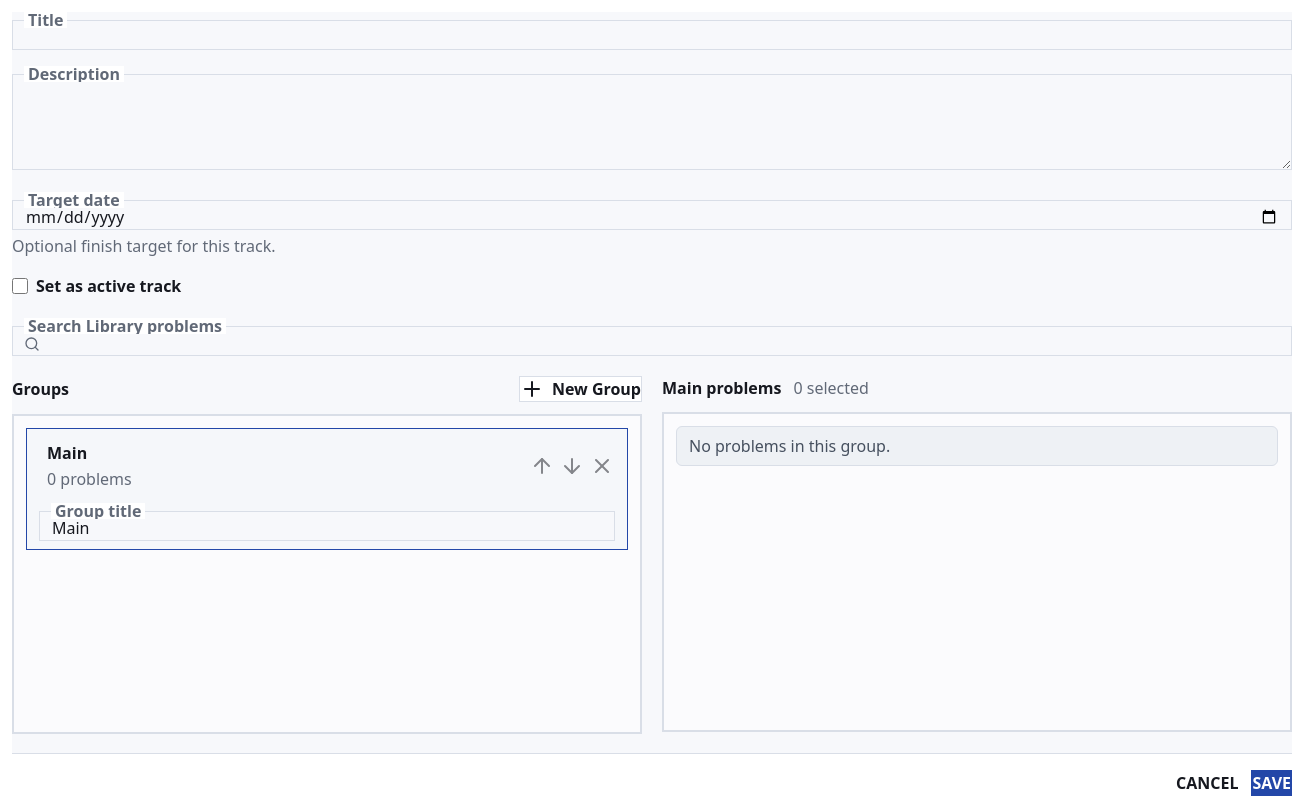
Test: TrackForm › does not offer a problem already selected in another group
Type "Interview Track" into the field labelled "Title". click: coordinates (652, 35)
box: [12,20,1292,50]
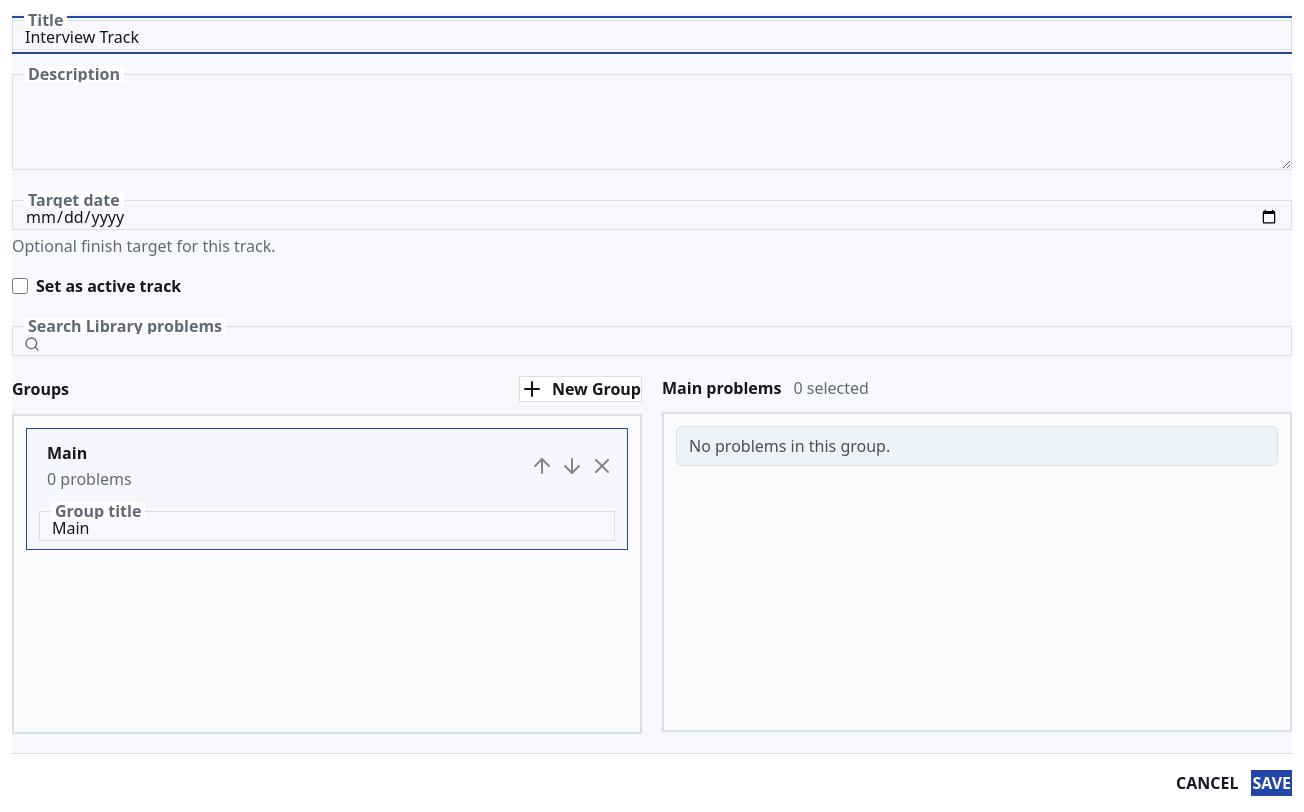
Type "two" into the search field labelled "Search Library problems". click: coordinates (652, 341)
box: [12,326,1292,356]
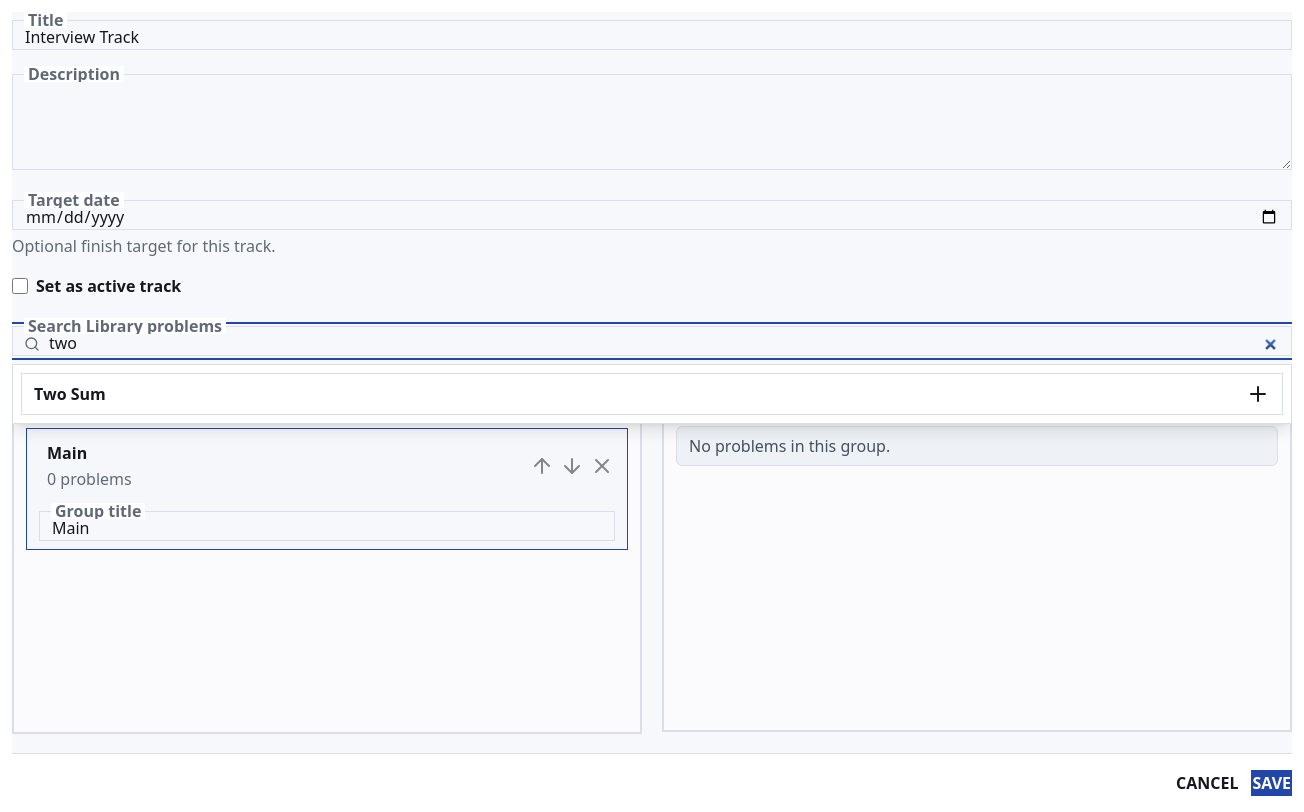
Click the button with aria-label "Add Two Sum". click: coordinates (70, 394)
box: [21,373,1283,415]
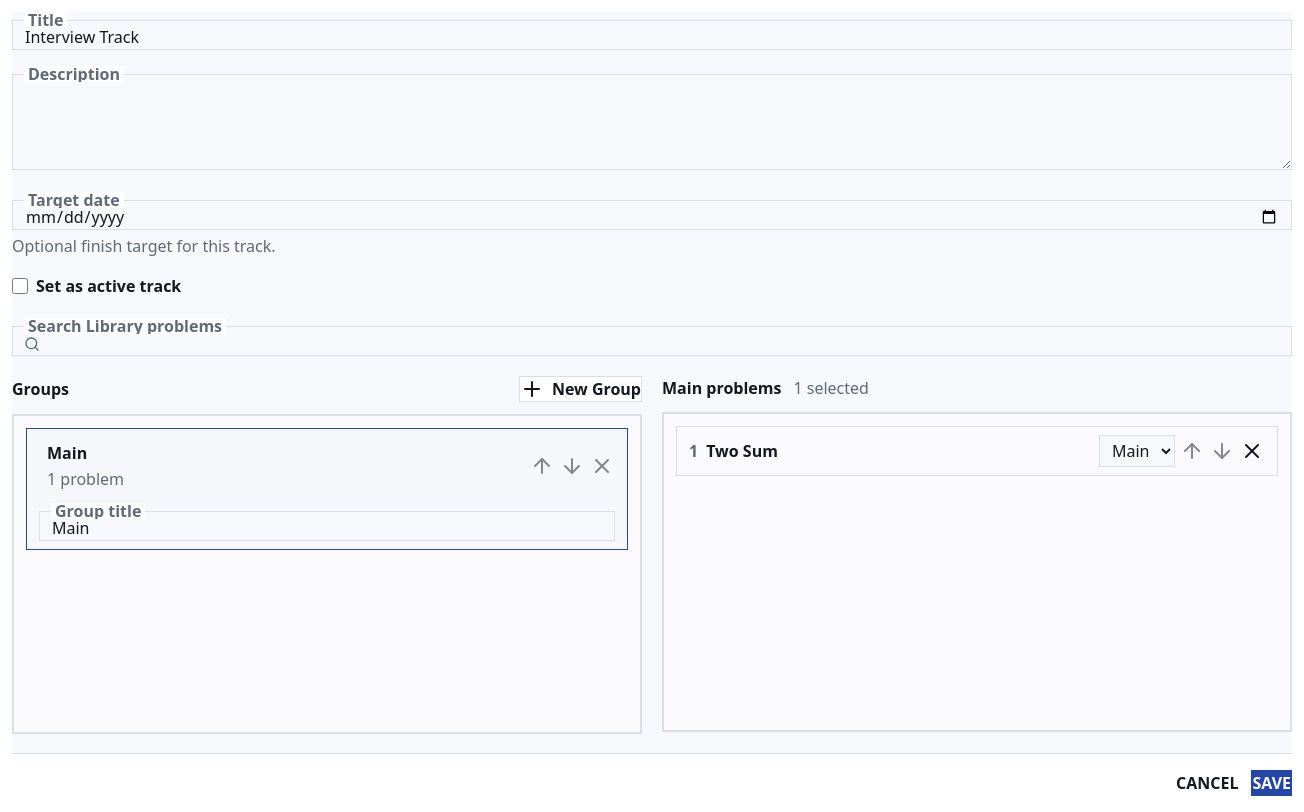
Click the button "New Group". click: coordinates (580, 389)
box: [519,376,642,402]
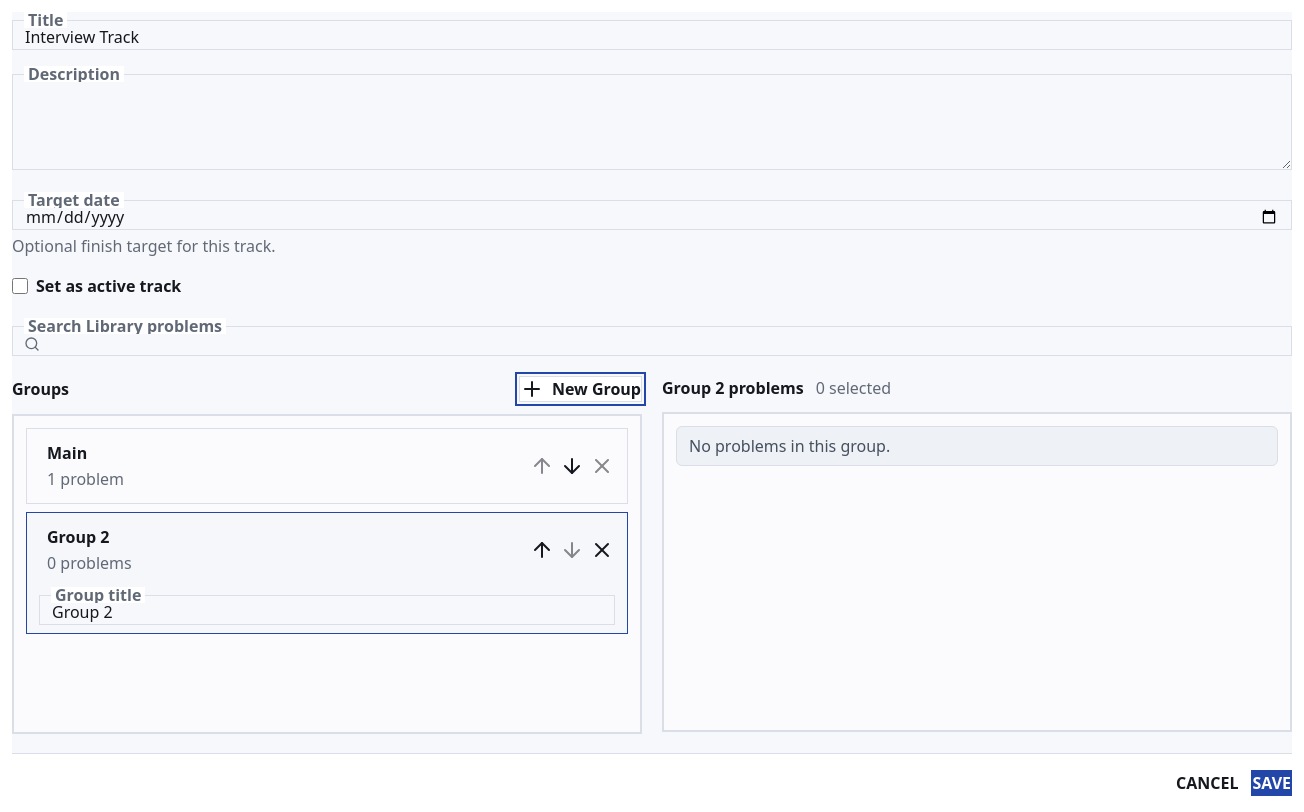
Type "two" into the search field labelled "Search Library problems". click: coordinates (652, 341)
box: [12,326,1292,356]
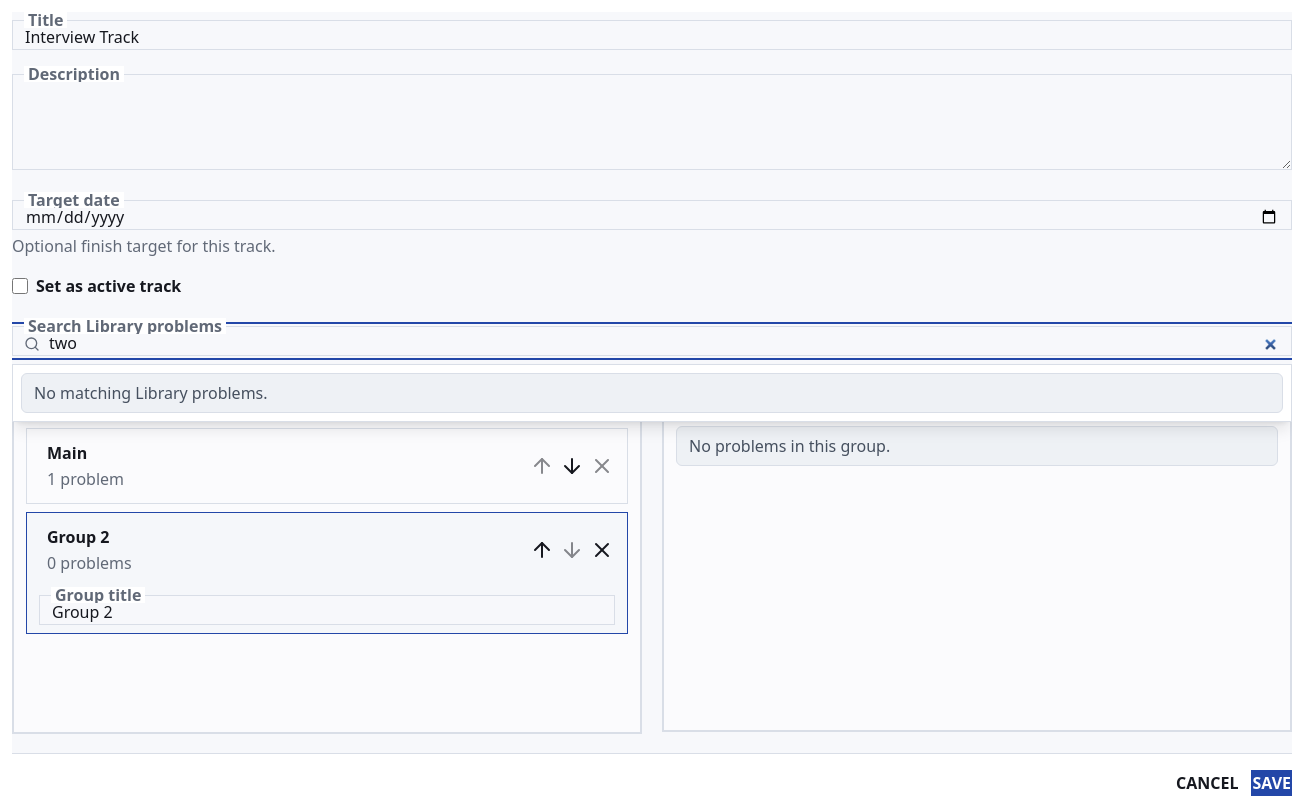
Check: the text "No matching Library problems." is shown, box [21,373,1283,413]
